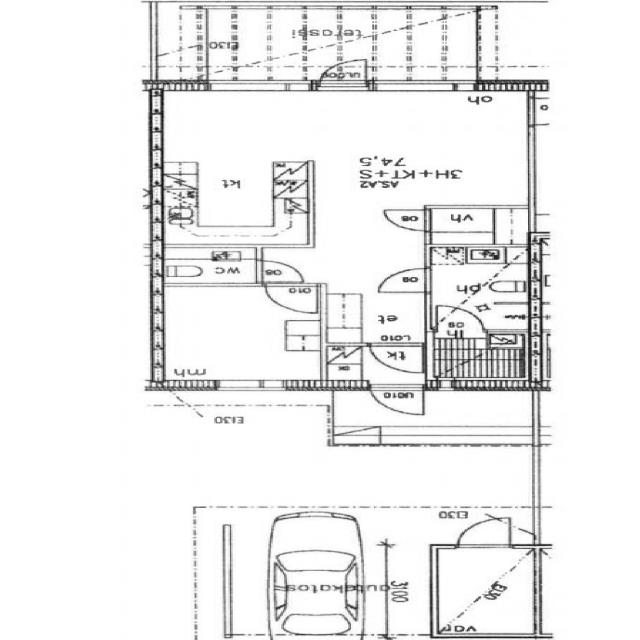door: (370, 380, 422, 417), (370, 343, 423, 373), (266, 283, 318, 313), (321, 57, 366, 91), (459, 519, 510, 549), (378, 268, 430, 292), (438, 306, 483, 332), (256, 260, 304, 282), (385, 210, 430, 231)
